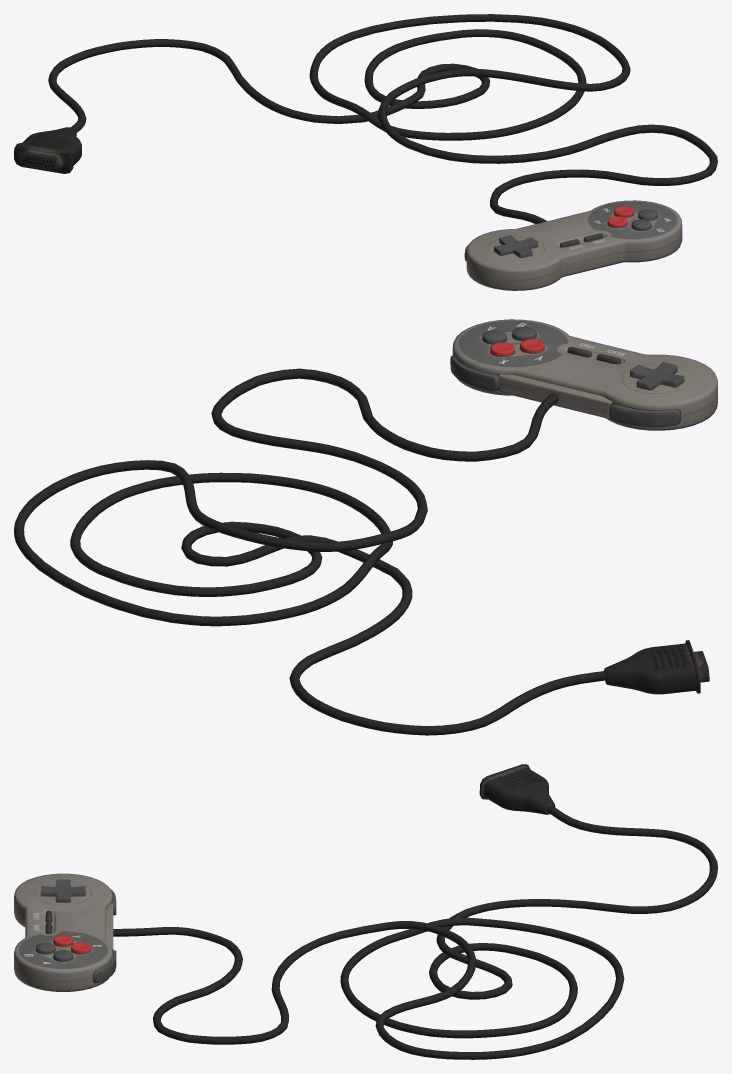
File: gamepad.756f76bc.glb
The picture shows the model from 3 angles, top to bottom: view 1: azimuth 30°, elevation 25°; view 2: azimuth 150°, elevation 25°; view 3: azimuth 270°, elevation 25°; orthographic projection. The views are drawn at different scales.
Visible parts, largest first — view 1: gamepad; view 2: gamepad; view 3: gamepad.
Part boxes in pixels (bbox=[...]): gamepad: bbox=[14, 14, 717, 290]; gamepad: bbox=[14, 319, 717, 735]; gamepad: bbox=[14, 764, 717, 1059].
Bounding box in the file's own units: 0.6688 × 0.0313 × 0.72.
Materials: 1 (1 with a texture image).
